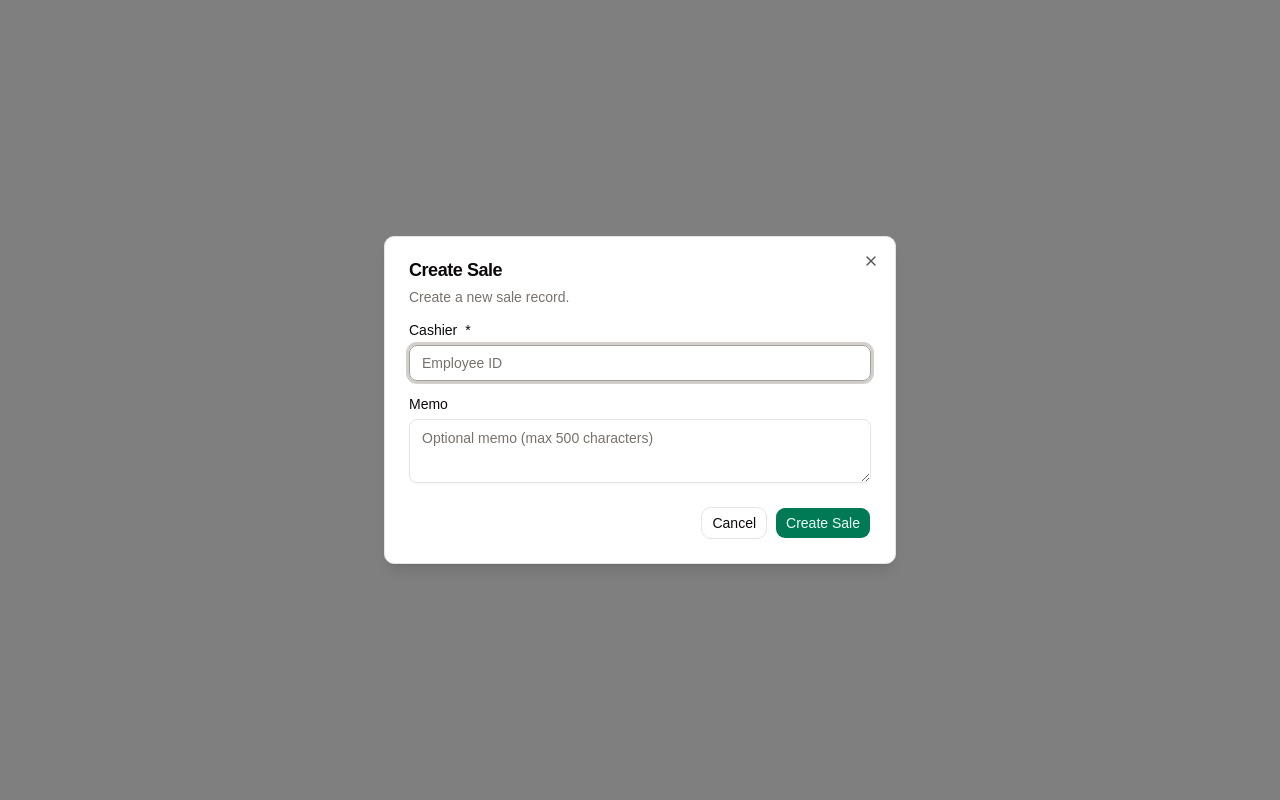
Test: SaleForm › submission disabling › disables all inputs and submit button during submission
Type "emp-1" into the field labelled "Cashier *". click: (640, 363)
box: [409,345,871,381]
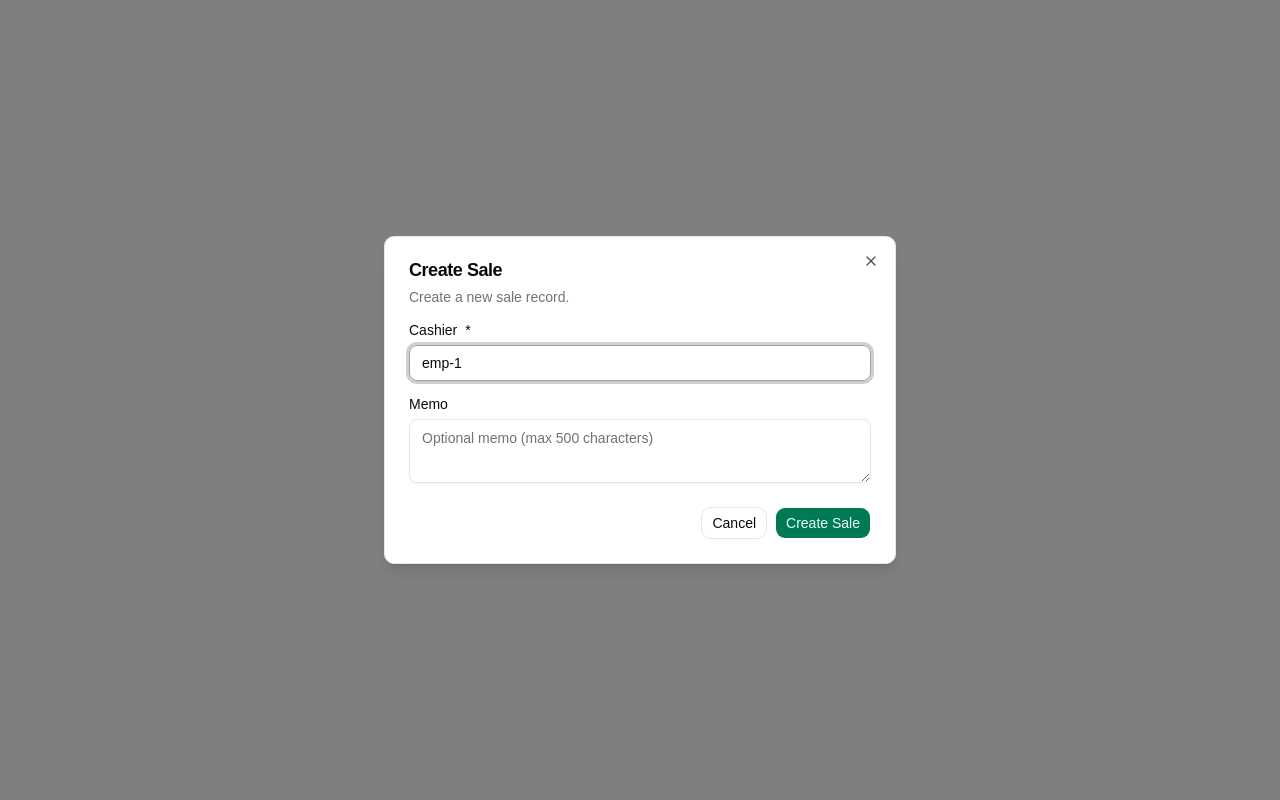
Submit the form, box [409,323,871,539]
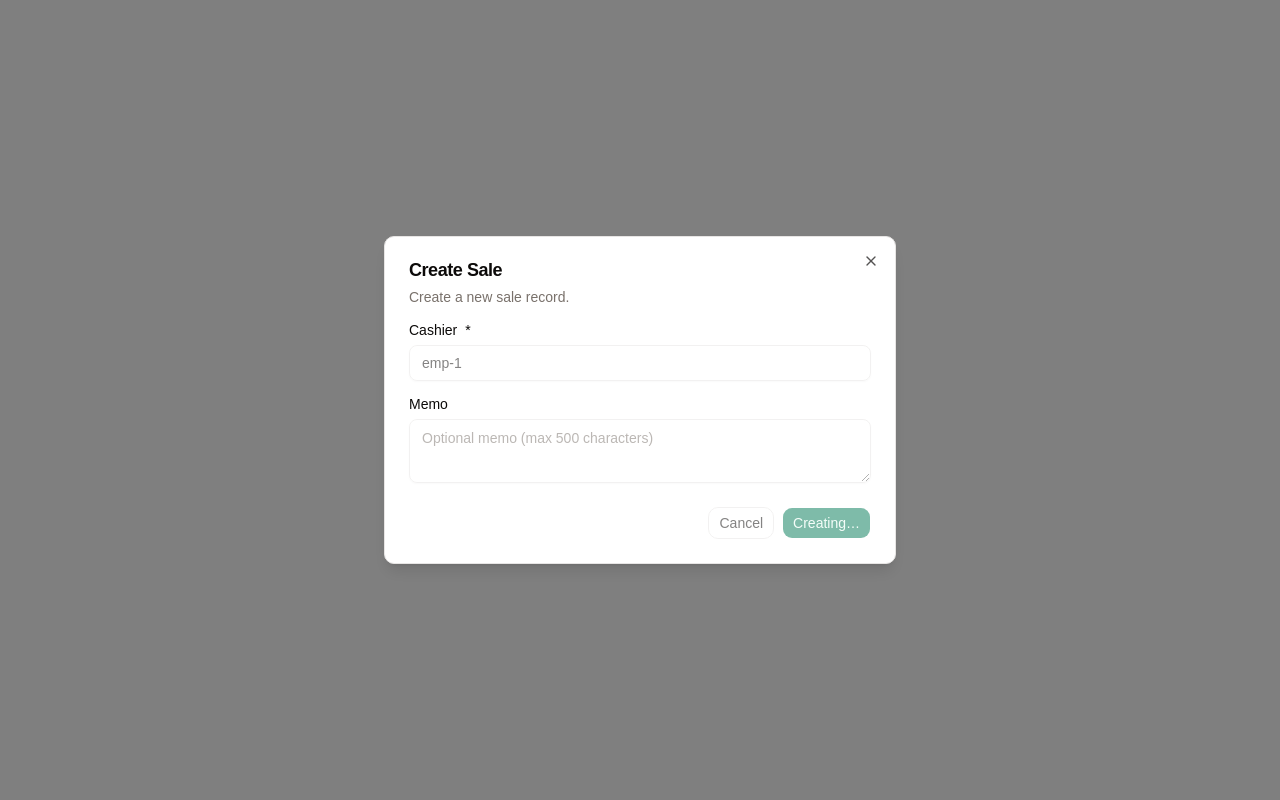
Expected: the field labelled "Cashier *" is disabled, [409,345,871,381]
Expected: the text box labelled "Memo" is disabled, [409,419,871,483]
Expected: the button "Creating…" is disabled, [782,507,871,539]
